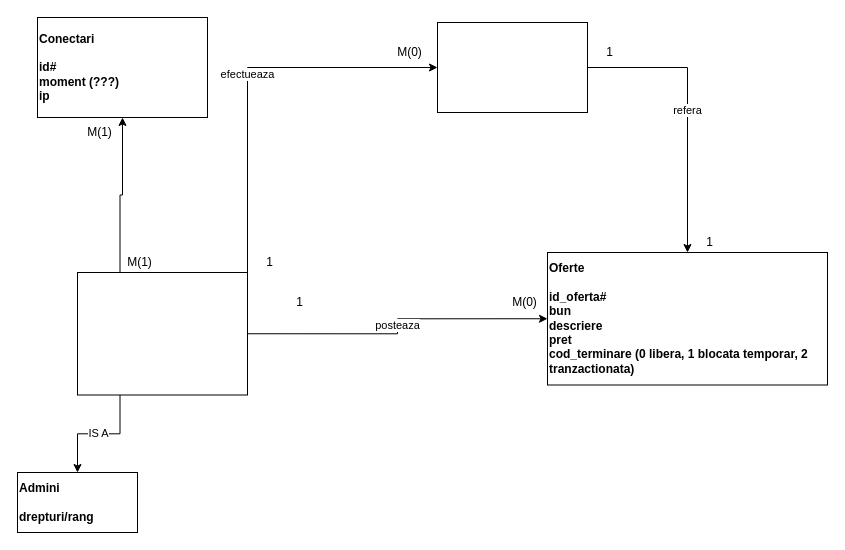
The diagram is 845 pixels wide and 550 high, and some of its shapes have lost their labels. Each missing label, with the box of its shape:
Tranzactii (efectuate) id_oferta# id_cumparator# data: (436, 22, 588, 112)
Utilizatori id# nume email parola data_inregistrare: (76, 272, 248, 395)
